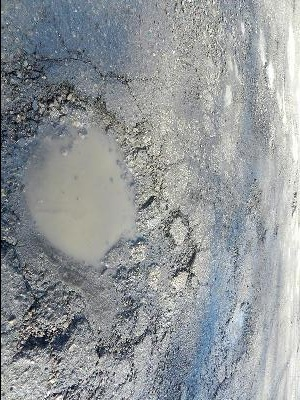pothole: (1, 79, 168, 354), (170, 234, 200, 279)
